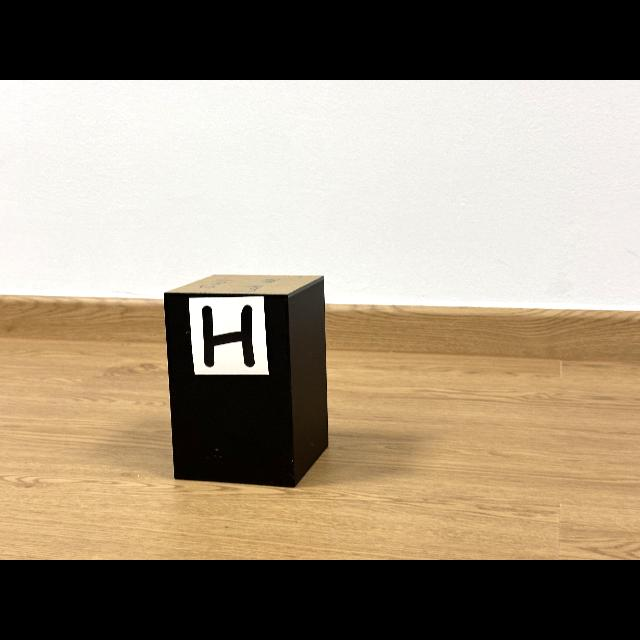H: (202, 305, 255, 368)
